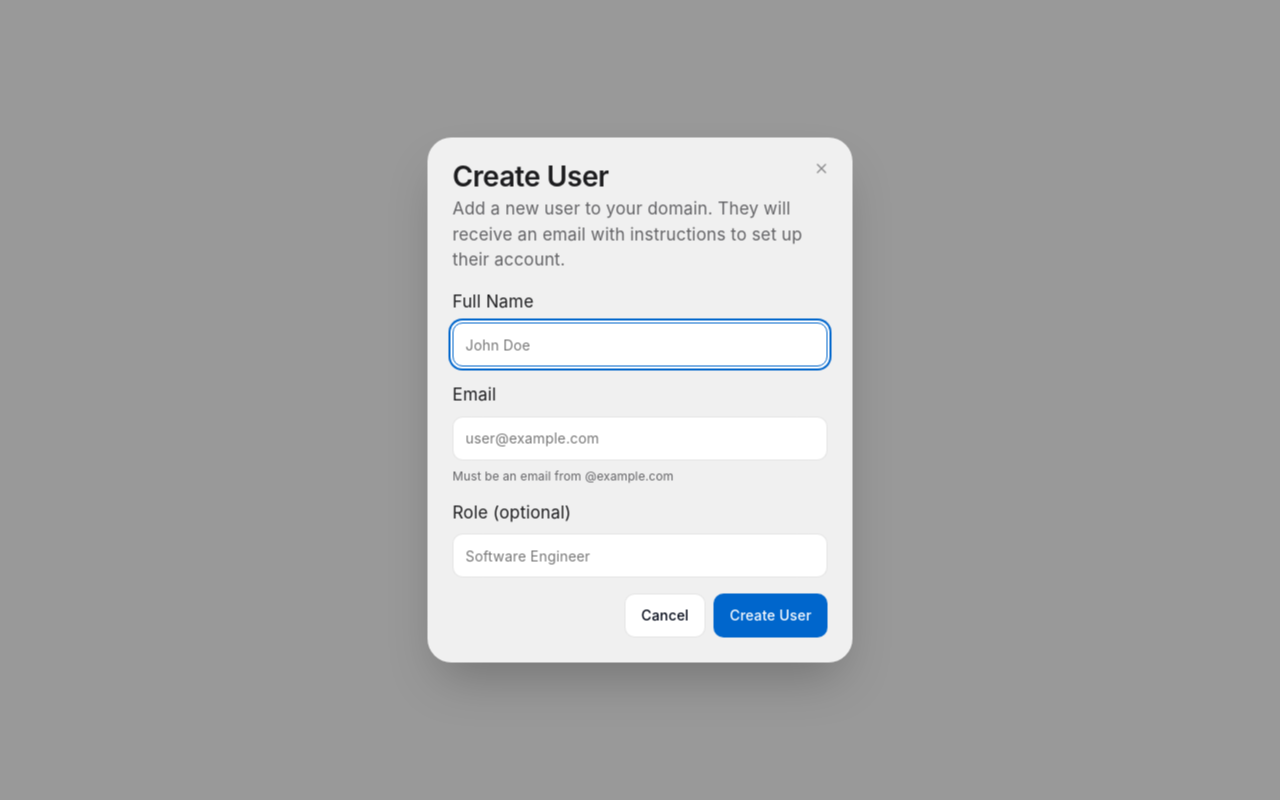
Test: CreateUserDialog › Validation › should show error for name too short
Type "J" into the field labelled "Full Name" at (640, 344), box [452,322,828,366]
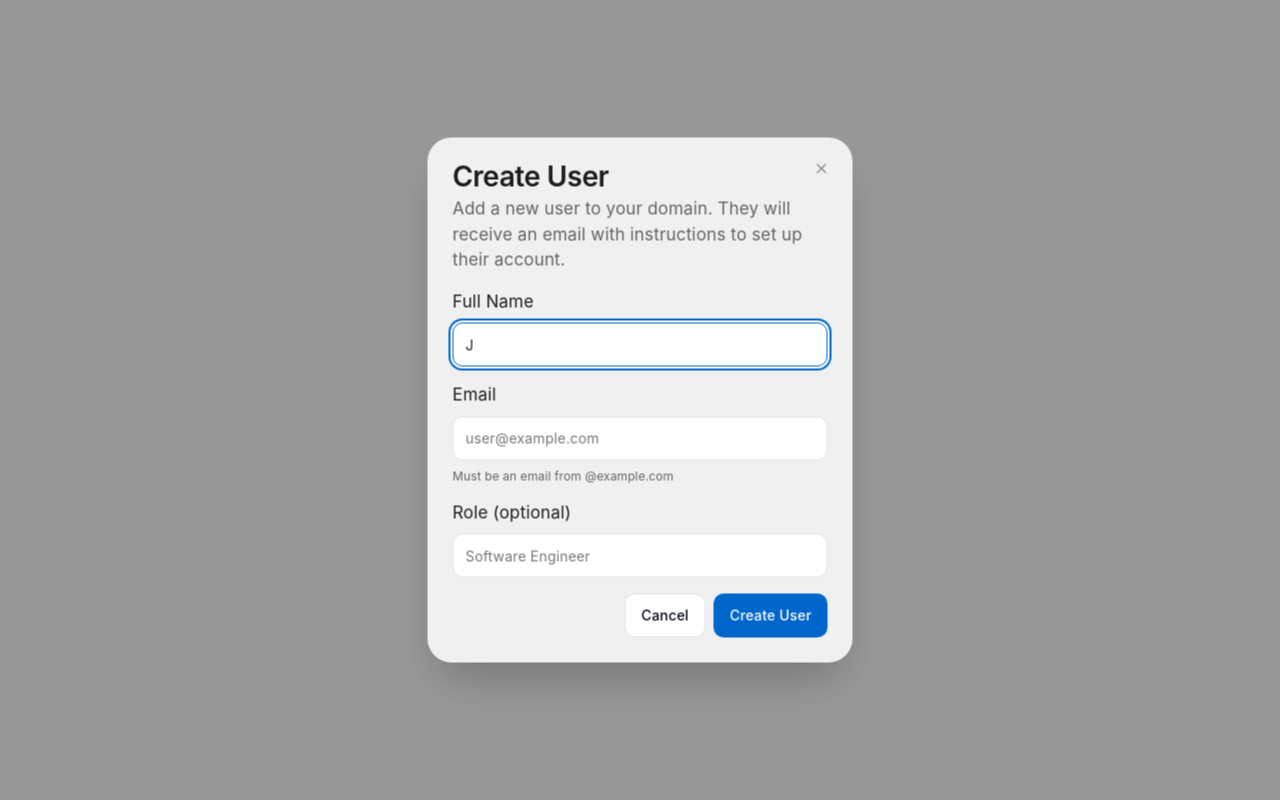
Click the button "Create User" at (771, 616), box [714,594,828,638]
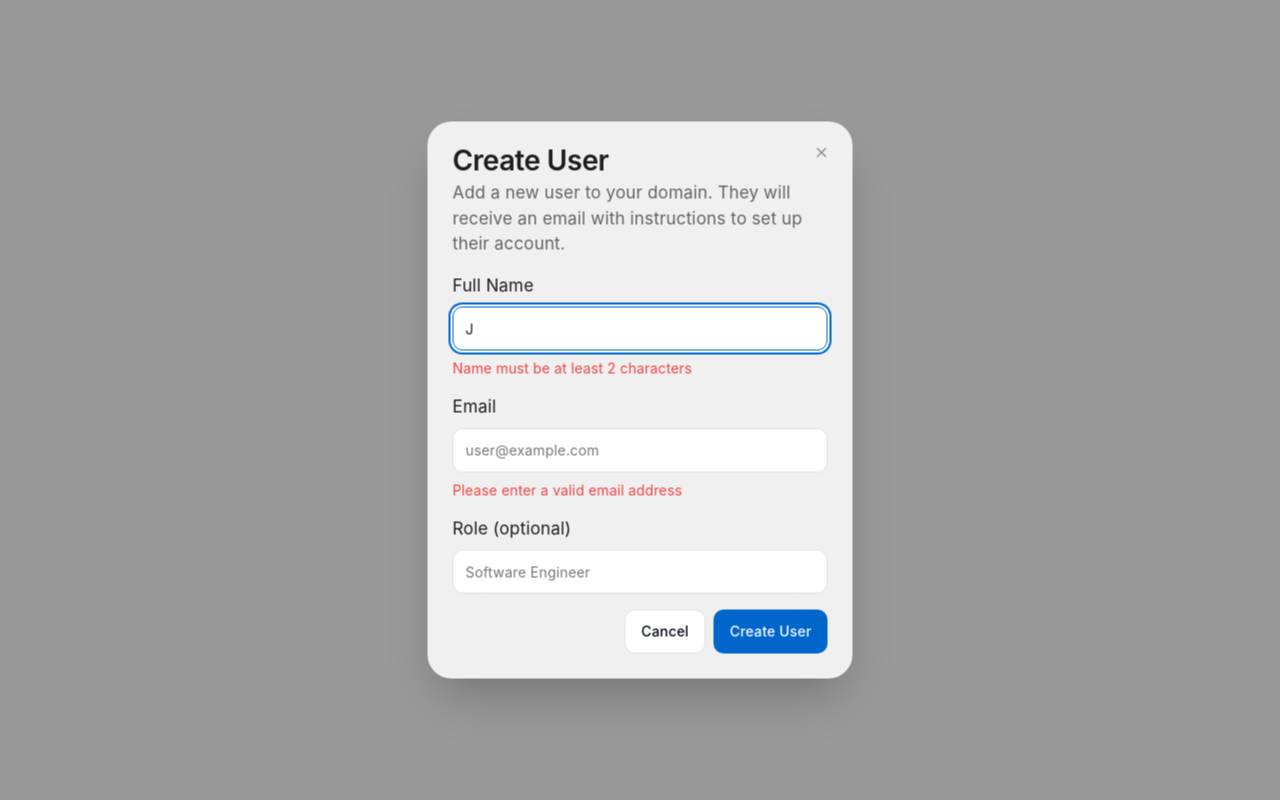
Check: the text "Name must be at least 2 characters" is shown, box [452,360,692,376]
